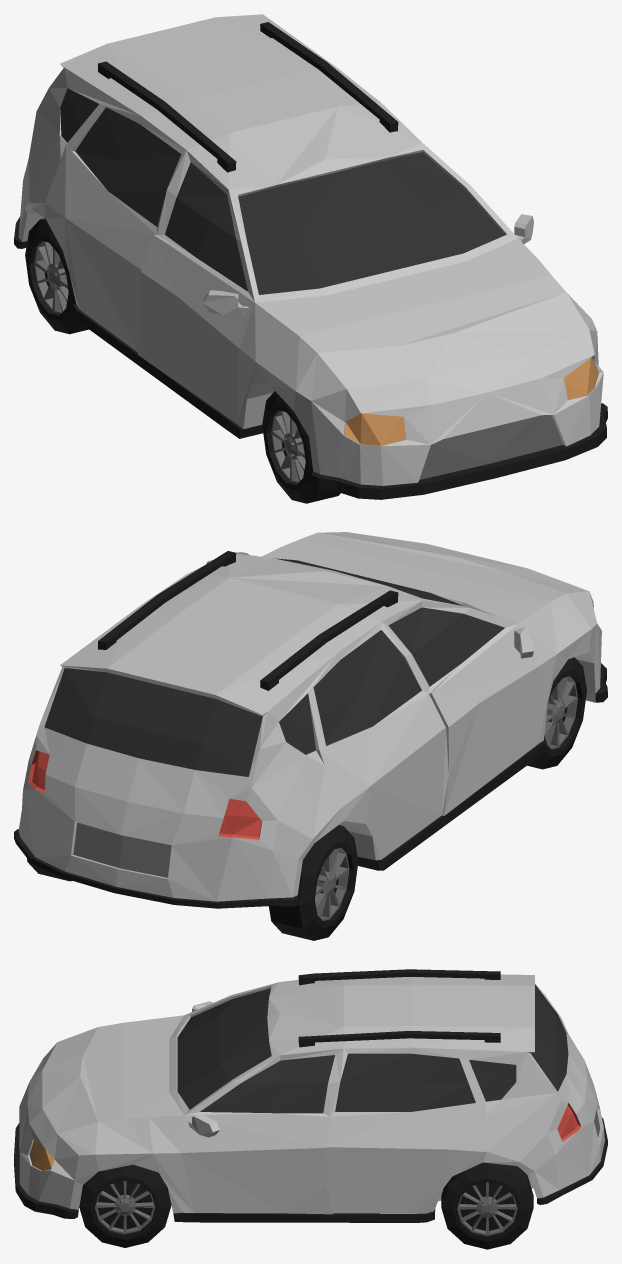
File: suv.glb
The picture shows the model from 3 angles, top to bottom: view 1: azimuth 30°, elevation 25°; view 2: azimuth 150°, elevation 25°; view 3: azimuth 270°, elevation 25°; orthographic projection. The views are drawn at different scales.
Parts seen in each view (by area): view 1: SUV_Cube; view 2: SUV_Cube; view 3: SUV_Cube.
Part boxes in pixels (left/top/right/bottom): SUV_Cube: left=14, top=14, right=607, bottom=503; SUV_Cube: left=14, top=532, right=607, bottom=940; SUV_Cube: left=14, top=969, right=607, bottom=1249.
Size of the model in its own units: 2.11 by 1.53 by 4.21.
1 material, 1 textured.
